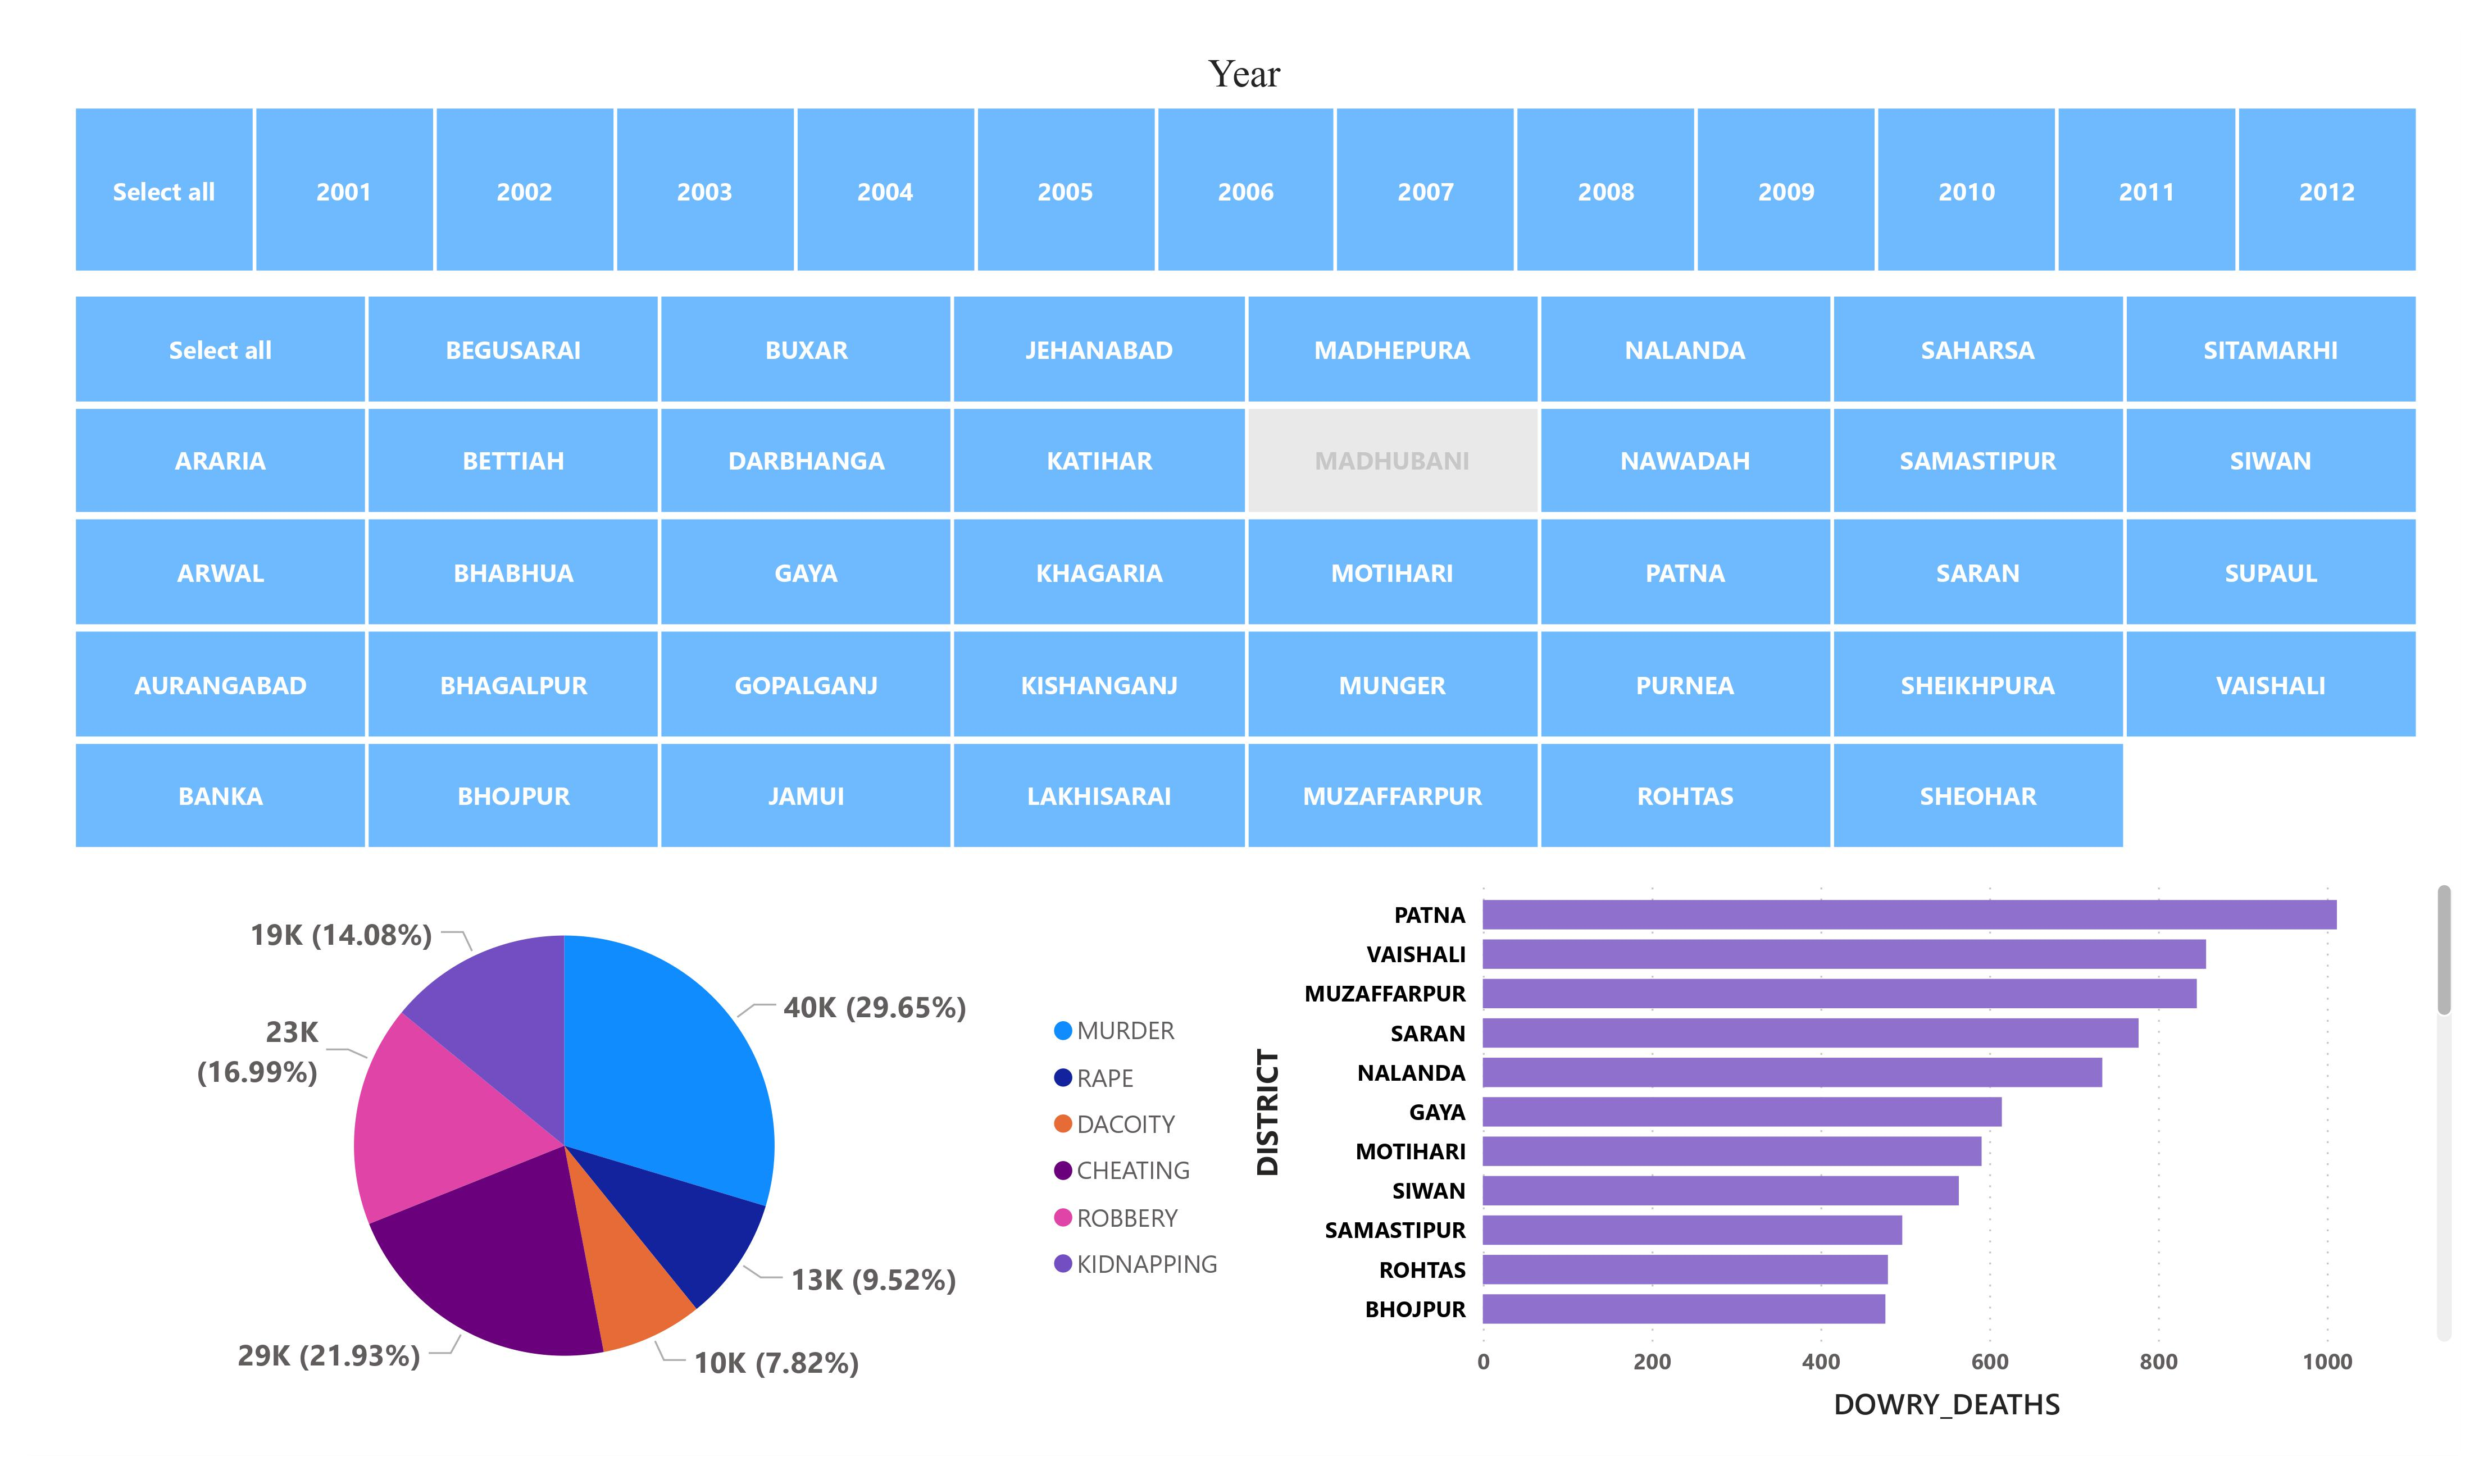

This screenshot's page, from the dashboard's own definition file:
{"tool":"powerbi","page":{"name":"Page 1","canvas":[1321,750],"ordinal":0},"visuals":[{"type":"slicer","title":"Year","fields":{"Values":["District_wise_crimes_committed_IPC_2001_2012.YEAR"]},"box":[0,0,1321,126.1],"z":0},{"type":"slicer","fields":{"Values":["District_wise_crimes_committed_IPC_2001_2012.DISTRICT"]},"box":[0,126.1,1321,313.2],"z":1000},{"type":"pieChart","fields":{"Y":["Sum(District_wise_crimes_committed_IPC_2001_2012.MURDER)","Sum(District_wise_crimes_committed_IPC_2001_2012.RAPE)","Sum(District_wise_crimes_committed_IPC_2001_2012.DACOITY)","Sum(District_wise_crimes_committed_IPC_2001_2012.CHEATING)","Sum(District_wise_crimes_committed_IPC_2001_2012.ROBBERY)","Sum(District_wise_crimes_committed_IPC_2001_2012.KIDNAPPING)"]},"box":[21.3,439.4,639.2,310.4],"z":2000},{"type":"barChart","fields":{"Category":["District_wise_crimes_committed_IPC_2001_2012.DISTRICT"],"Y":["Sum(District_wise_crimes_committed_IPC_2001_2012.DOWRY_DEATHS)"]},"box":[660.5,439.4,660.5,310.4],"z":2001}]}

Visuals, with their boxes on the page's 1321x750 design canvas (x1, y1, x2, y2). These are canvas units, not pixel positions in the 2488x1484 screenshot, which may show the page scaled, cropped or inside an application window:
"Year" slicer: <bbox>0, 0, 1321, 126</bbox>
slicer - District_wise_crimes_committed_IPC_2001_2012.DISTRICT: <bbox>0, 126, 1321, 439</bbox>
pieChart - Sum(District_wise_crimes_committed_IPC_2001_2012.MURDER) x Sum(District_wise_crimes_committed_IPC_2001_2012.RAPE): <bbox>21, 439, 660, 750</bbox>
barChart - District_wise_crimes_committed_IPC_2001_2012.DISTRICT x Sum(District_wise_crimes_committed_IPC_2001_2012.DOWRY_DEATHS): <bbox>660, 439, 1321, 750</bbox>
